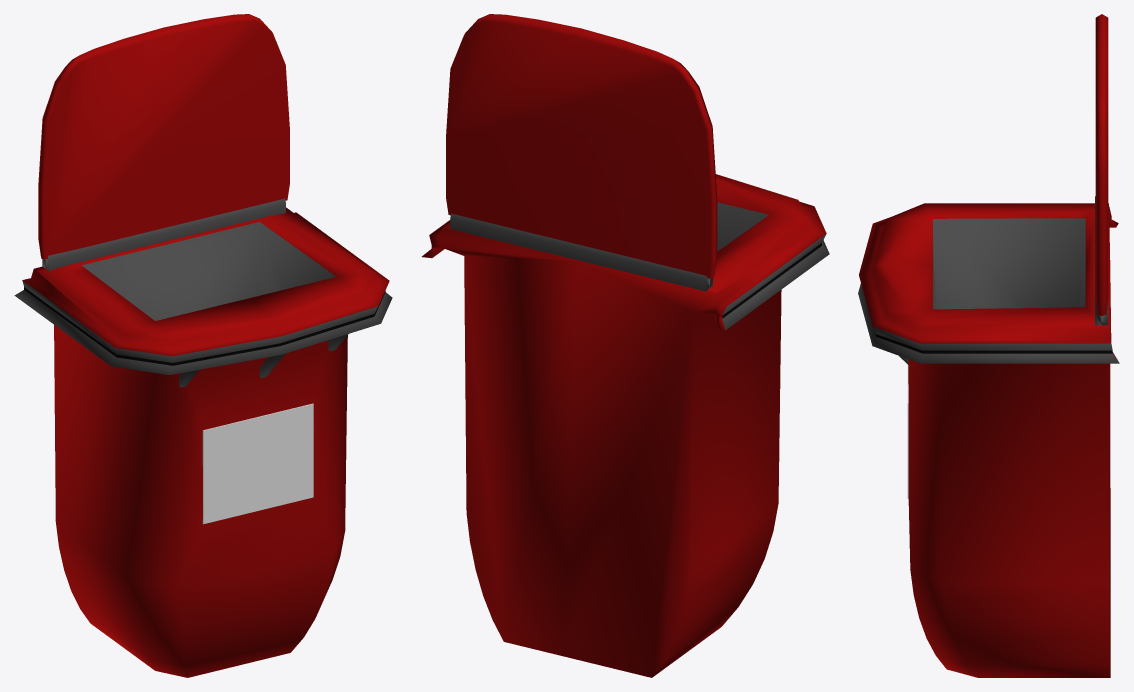
The model's file is LixeiraMetal.fbx.
The picture shows the model from 3 angles, left to right: view 1: azimuth 30°, elevation 25°; view 2: azimuth 150°, elevation 25°; view 3: azimuth 270°, elevation 25°; orthographic projection. The views are drawn at different scales.
Visible parts, largest first — view 1: Lixeira, Tampa, Plane, Suporte tampa; view 2: Lixeira, Tampa, Suporte tampa; view 3: Lixeira, Tampa.
Boxes of the visible parts, <box> form: Lixeira: <box>14,207,392,677</box>; Tampa: <box>38,14,289,259</box>; Plane: <box>202,403,313,524</box>; Suporte tampa: <box>42,198,285,270</box>; Lixeira: <box>421,174,829,677</box>; Tampa: <box>446,14,717,278</box>; Suporte tampa: <box>450,213,712,291</box>; Lixeira: <box>858,203,1119,677</box>; Tampa: <box>1095,14,1108,315</box>.
Size of the model in its own units: 202 by 399 by 159.
